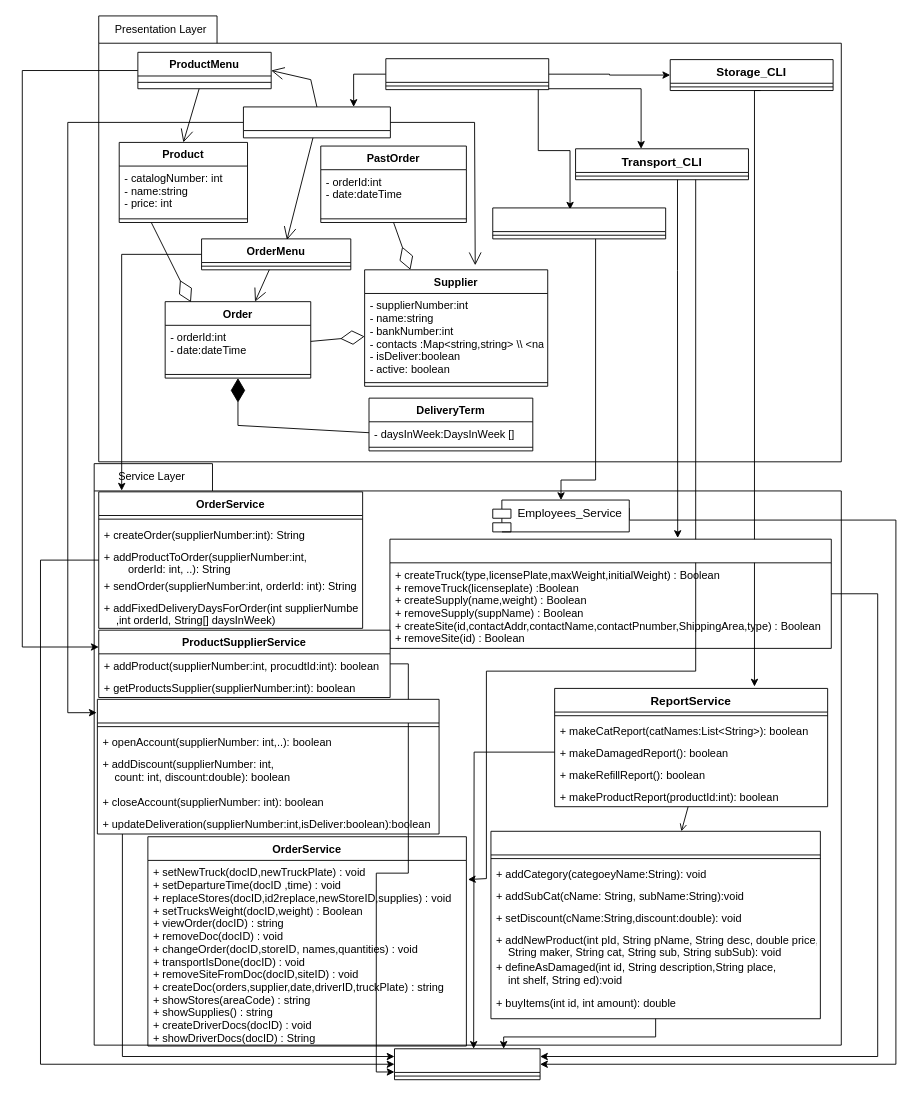
Image size: 919x1096. Some labels were removed from this diagram. Here are the shapes that lost their labels. From the top down, the box of each, then its label:
(385, 58, 549, 90): Manu
(243, 106, 390, 138): SupplierMenu
(492, 207, 666, 239): Employees_CLI
(389, 538, 831, 648): UserService
(96, 698, 439, 834): SupplierService
(490, 830, 820, 1019): CategoryService
(394, 1048, 540, 1080): Facade
